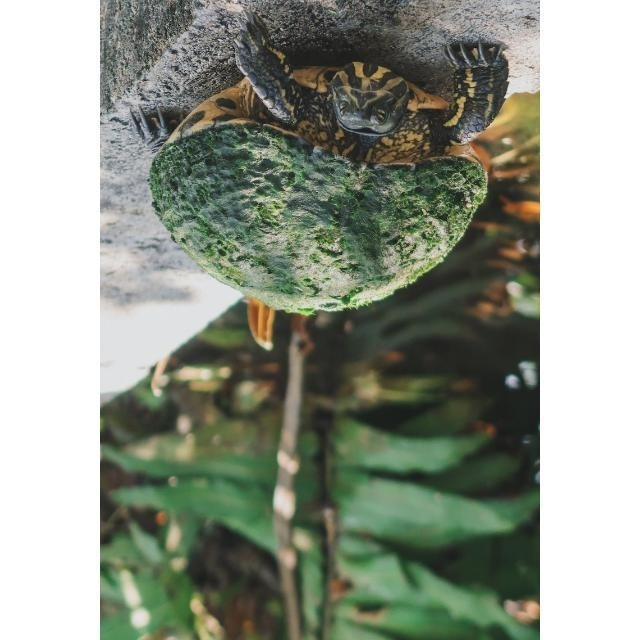turtle: (129, 13, 513, 317)
